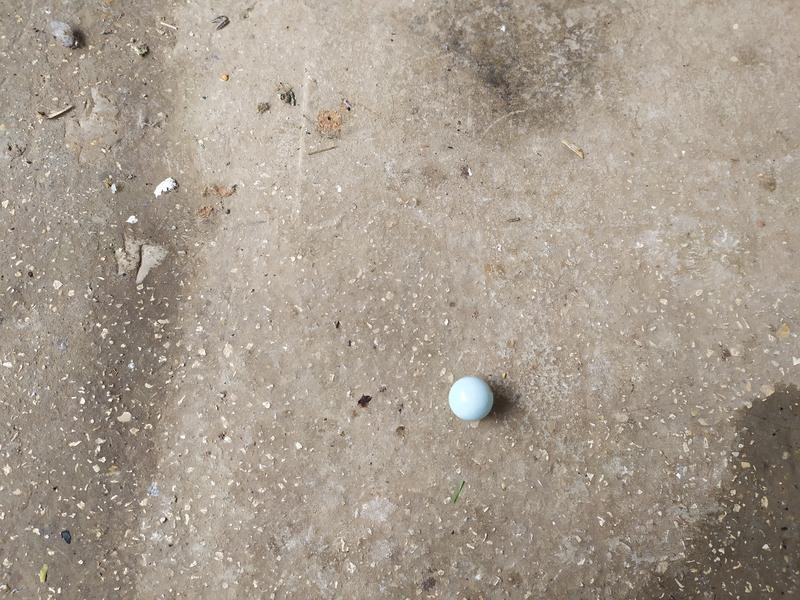Warning: (446, 374, 497, 423)
